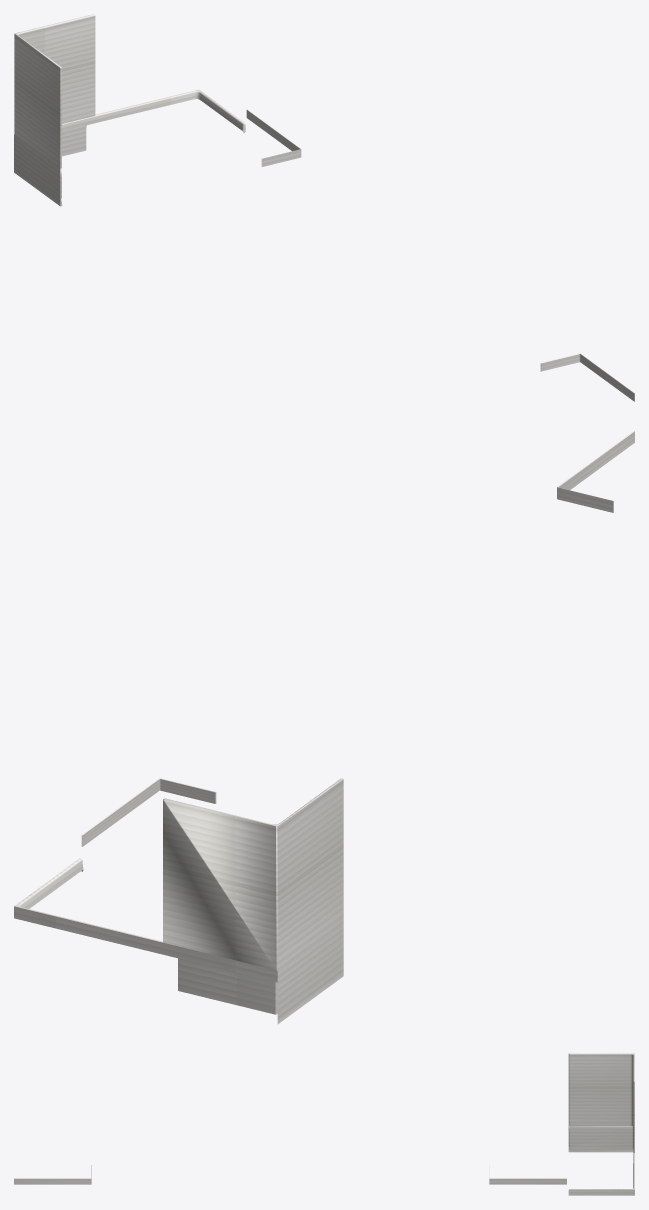
The model's file is 1860_bathroom_BP_BackplashCenterLinearwhite.gltf.
3 renders of one model, top to bottom at view 1: azimuth 30°, elevation 25°; view 2: azimuth 150°, elevation 25°; view 3: azimuth 270°, elevation 25°, orthographic. The views are drawn at different scales.
Parts seen in each view (by area): view 1: Center_Linear_white.001; view 2: Center_Linear_white.001; view 3: Center_Linear_white.001.
Part boxes in pixels (x1,y1,x2,y2): Center_Linear_white.001: (14,14,634,401); Center_Linear_white.001: (14,430,634,1024); Center_Linear_white.001: (14,1053,634,1195).
Bounding box in the file's own units: 4.6 × 3.3 × 18.76.
1 material, 1 textured.
